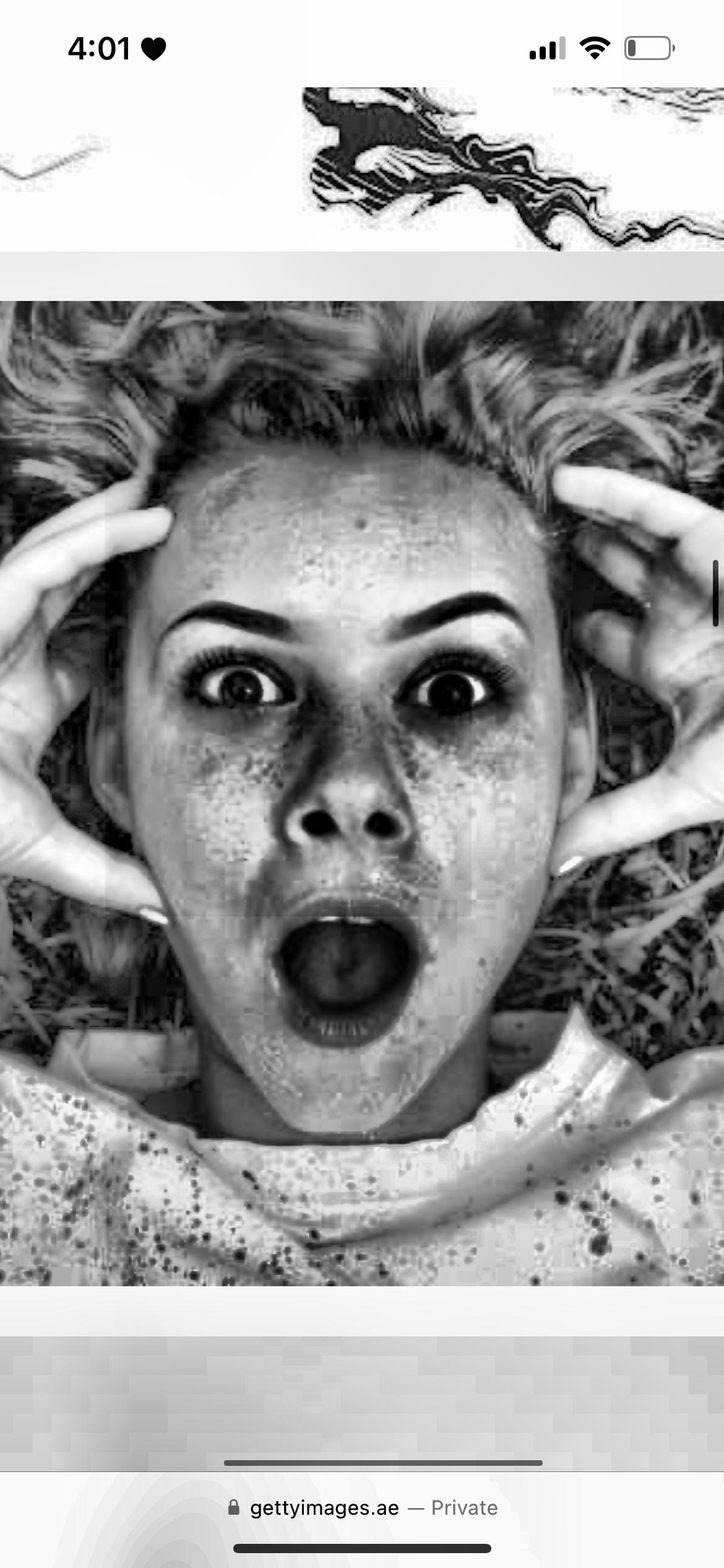surprised: (130, 470, 583, 1133)
